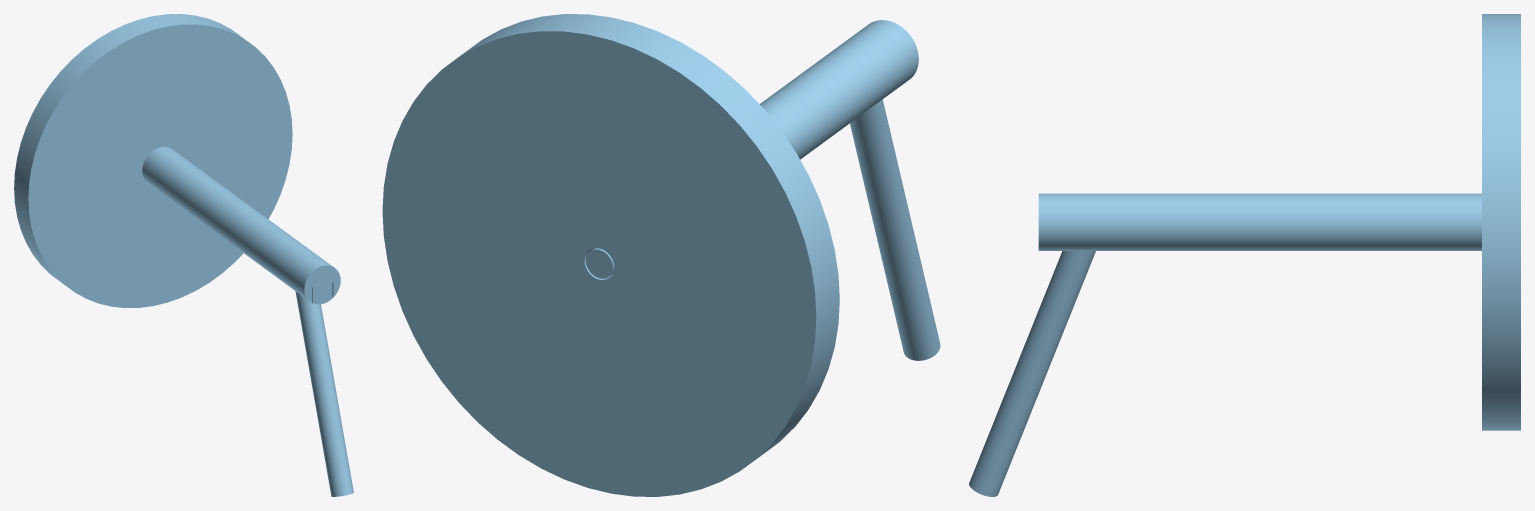
Rendered from Assembly 1.obj.
3 renders of one model, left to right at view 1: azimuth 30°, elevation 25°; view 2: azimuth 150°, elevation 25°; view 3: azimuth 270°, elevation 25°, orthographic. The views are drawn at different scales.
Visible parts, largest first — view 1: mesh10, mesh16, mesh9, mesh1, mesh17, mesh6; view 2: mesh11, mesh9, mesh16, mesh1, mesh13; view 3: mesh16, mesh9, mesh1.
Part boxes in pixels (bbox=[...]): mesh10: bbox=[28, 24, 292, 307]; mesh16: bbox=[142, 146, 332, 300]; mesh9: bbox=[14, 14, 243, 287]; mesh1: bbox=[295, 291, 353, 496]; mesh17: bbox=[304, 265, 340, 302]; mesh6: bbox=[312, 282, 332, 304]; mesh11: bbox=[382, 31, 816, 496]; mesh9: bbox=[460, 14, 839, 463]; mesh16: bbox=[760, 20, 918, 159]; mesh1: bbox=[850, 99, 940, 360]; mesh13: bbox=[586, 249, 612, 278]; mesh16: bbox=[1038, 193, 1481, 250]; mesh9: bbox=[1482, 14, 1520, 430]; mesh1: bbox=[969, 250, 1095, 496].
Size of the model in its own units: 0.16 by 0.1947 by 0.2117.
